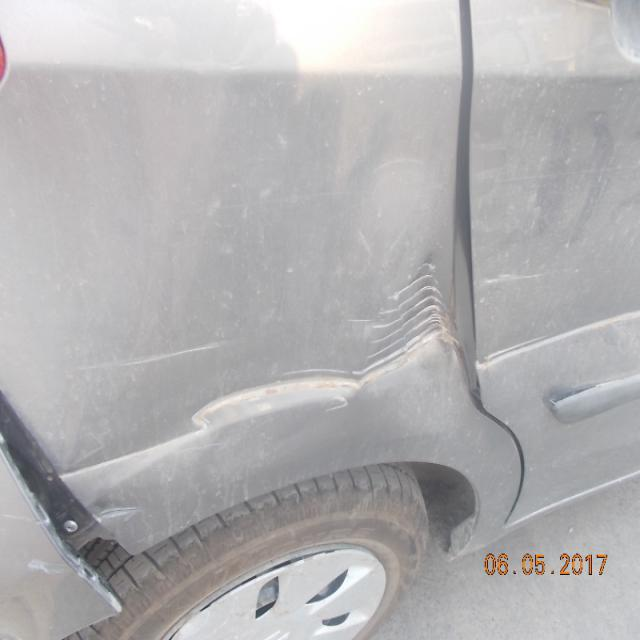quaterpanel-dent: (34, 147, 472, 634)
